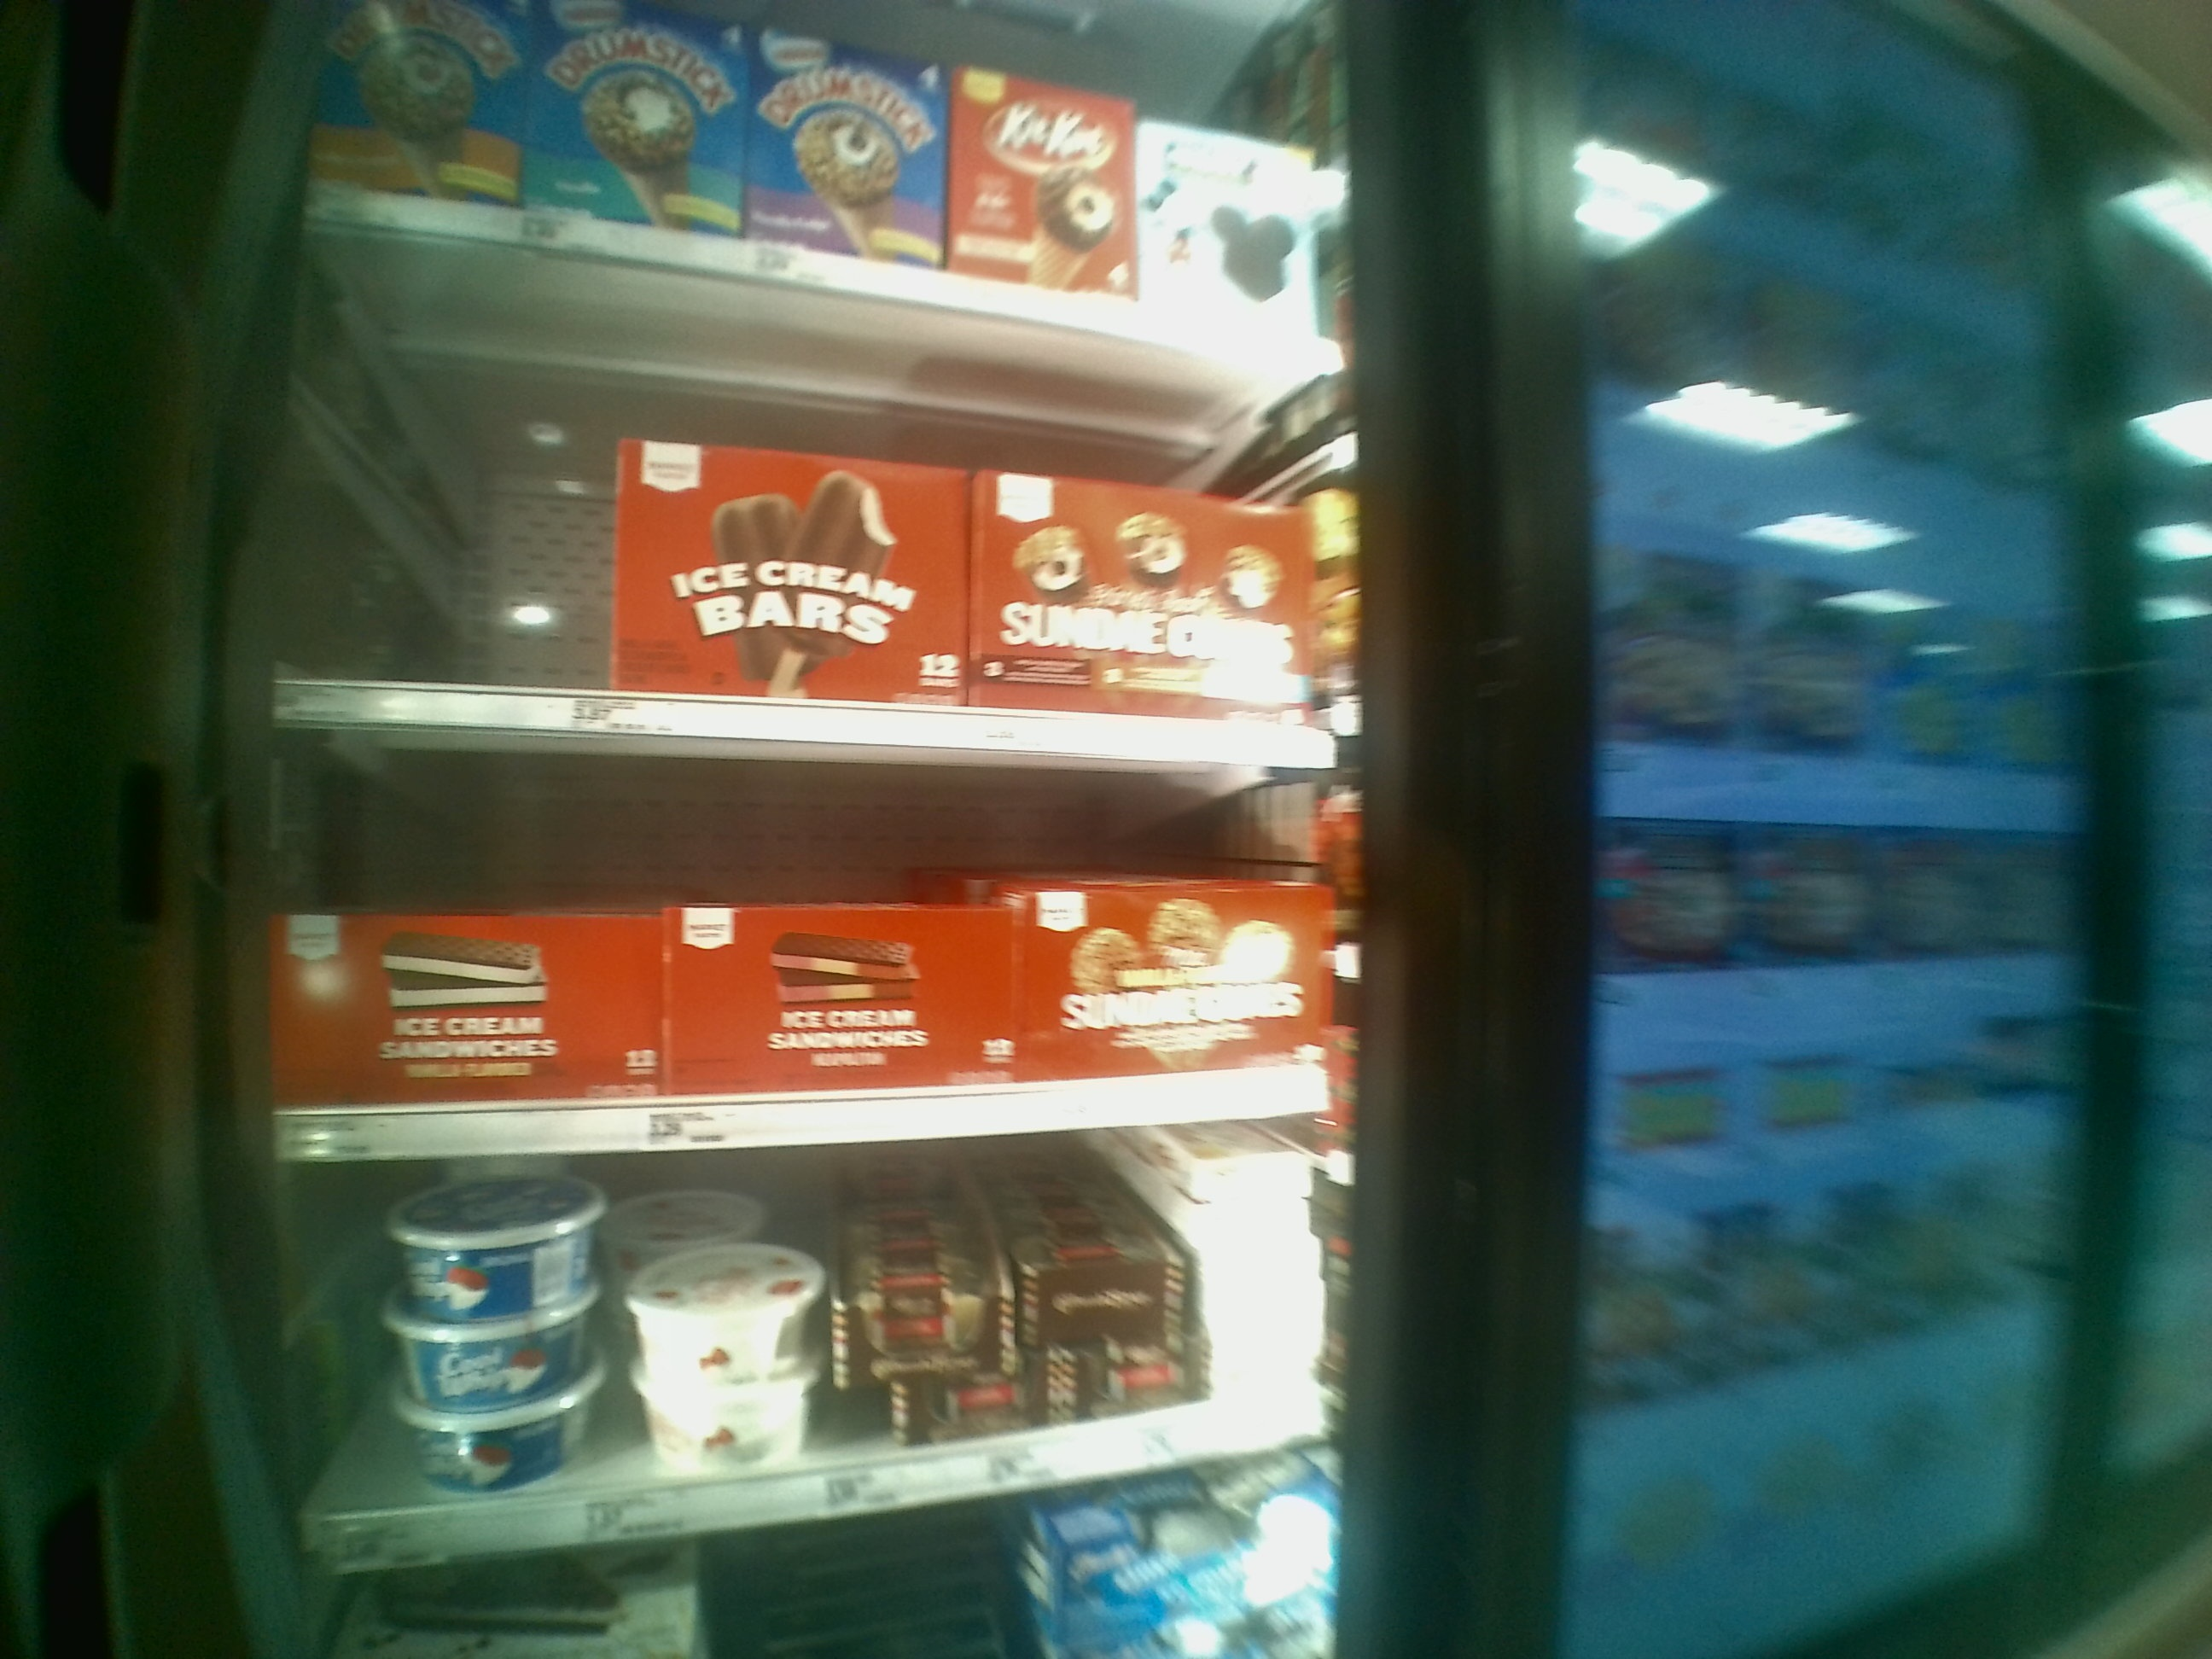shelf: (265, 220, 1353, 762), (265, 723, 1350, 1159), (263, 1161, 1339, 1554)
